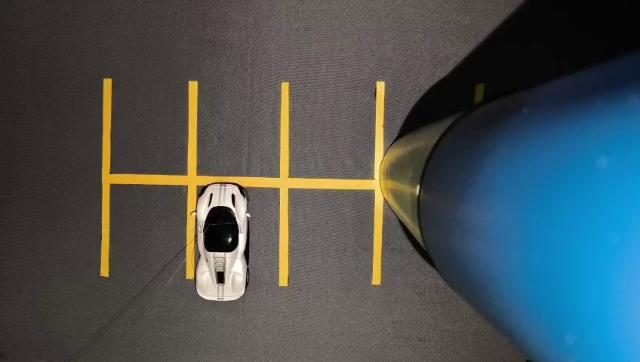toy_car: (183, 174, 280, 314)
